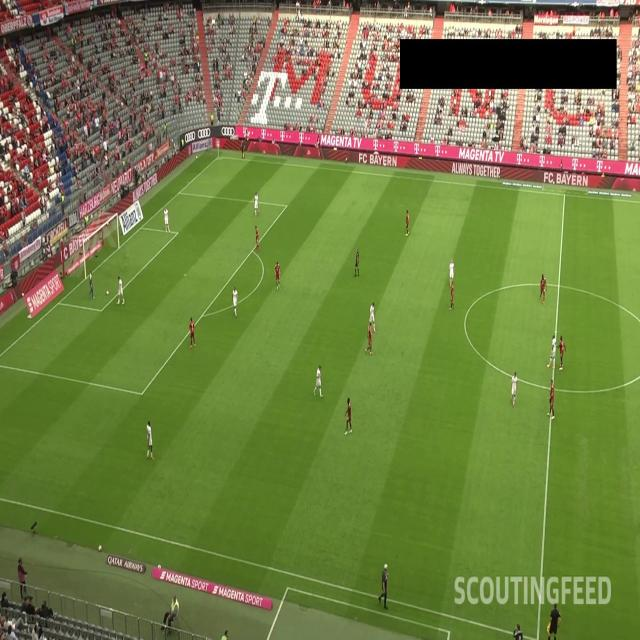ball: (106, 288, 110, 297)
player: (144, 419, 156, 461), (556, 332, 568, 373), (546, 378, 557, 419), (312, 362, 323, 399), (344, 393, 353, 438), (365, 315, 374, 358), (547, 330, 556, 372), (538, 270, 548, 306), (187, 316, 197, 350), (115, 276, 126, 306), (161, 206, 172, 235), (510, 369, 518, 408), (87, 268, 96, 302), (273, 259, 282, 293), (369, 299, 377, 337), (231, 286, 239, 318), (448, 280, 456, 312), (254, 223, 261, 254), (403, 207, 410, 237), (448, 254, 454, 288), (253, 190, 260, 218)
referee: (547, 601, 563, 640), (354, 247, 360, 279), (240, 138, 247, 161)
